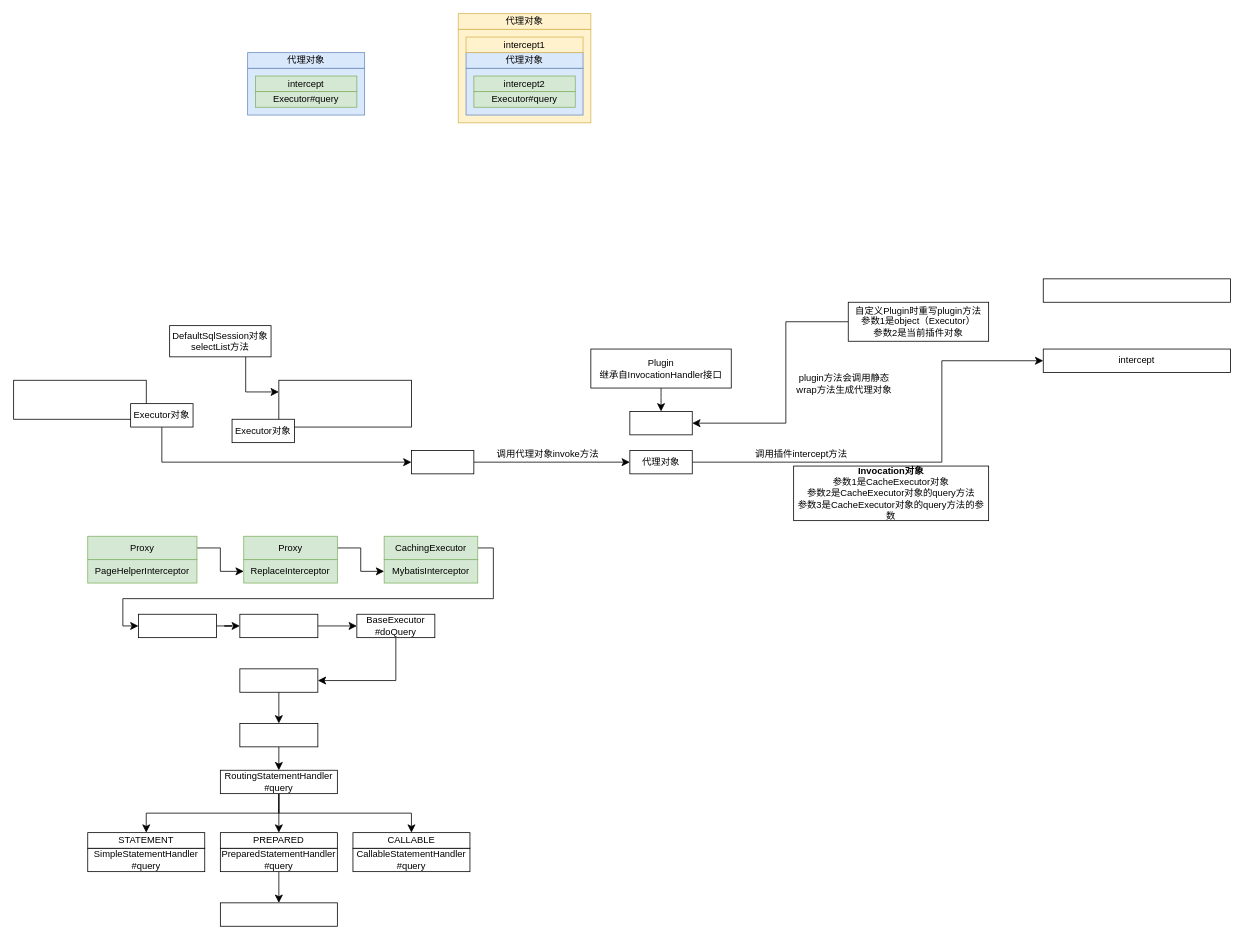
This 1244x940 diagram has some shape labels left out. Here are the shapes that lost their labels. From the top down, the centre of each, then its label:
At (1136,290): "plugin".
At (79,399): "从当前DefaultSqlSession对象 的executor属性中 获取Executor对象".
At (344,403): "从当前DefaultSqlSession对象 的configuration属性中 获取MappedStatement对象".
At (660,423): "静态wrap方法".
At (442,462): "代理对象 invoke方法".
At (177,625): "CachingExecutor #query".
At (278,625): "SimpleExecutor #query".
At (278,680): "SimpleExecutor #doQuery".
At (278,735): "StatementHandler #query".
At (278,914): "PreparedStatement #execute".
